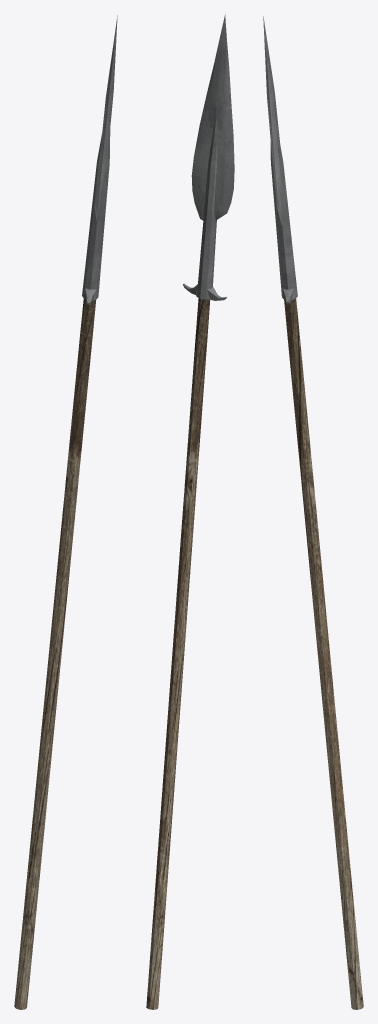
File: staff2.obj
3 views of the same model, side by side, from view 1: azimuth 90°, elevation 25°; view 2: azimuth 150°, elevation 25°; view 3: azimuth 270°, elevation 25° (orthographic). The views are drawn at different scales.
Parts seen in each view (by area): view 1: staff2; view 2: staff2; view 3: staff2.
Part boxes in pixels (x1,y1,x2,y2): staff2: (14,15,117,1009); staff2: (146,14,234,1009); staff2: (263,16,363,1009).
Bounding box in the file's own units: 0.1016 × 1.91 × 0.1772.
1 material, 1 textured.
